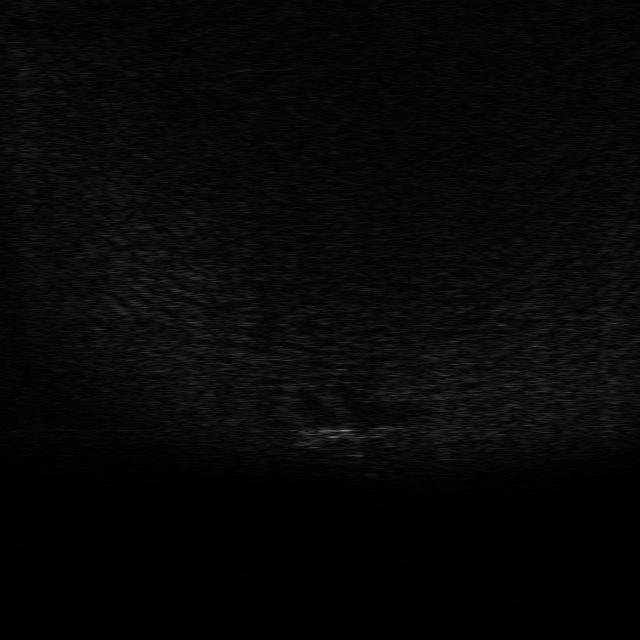plane: (285, 407, 396, 459)
